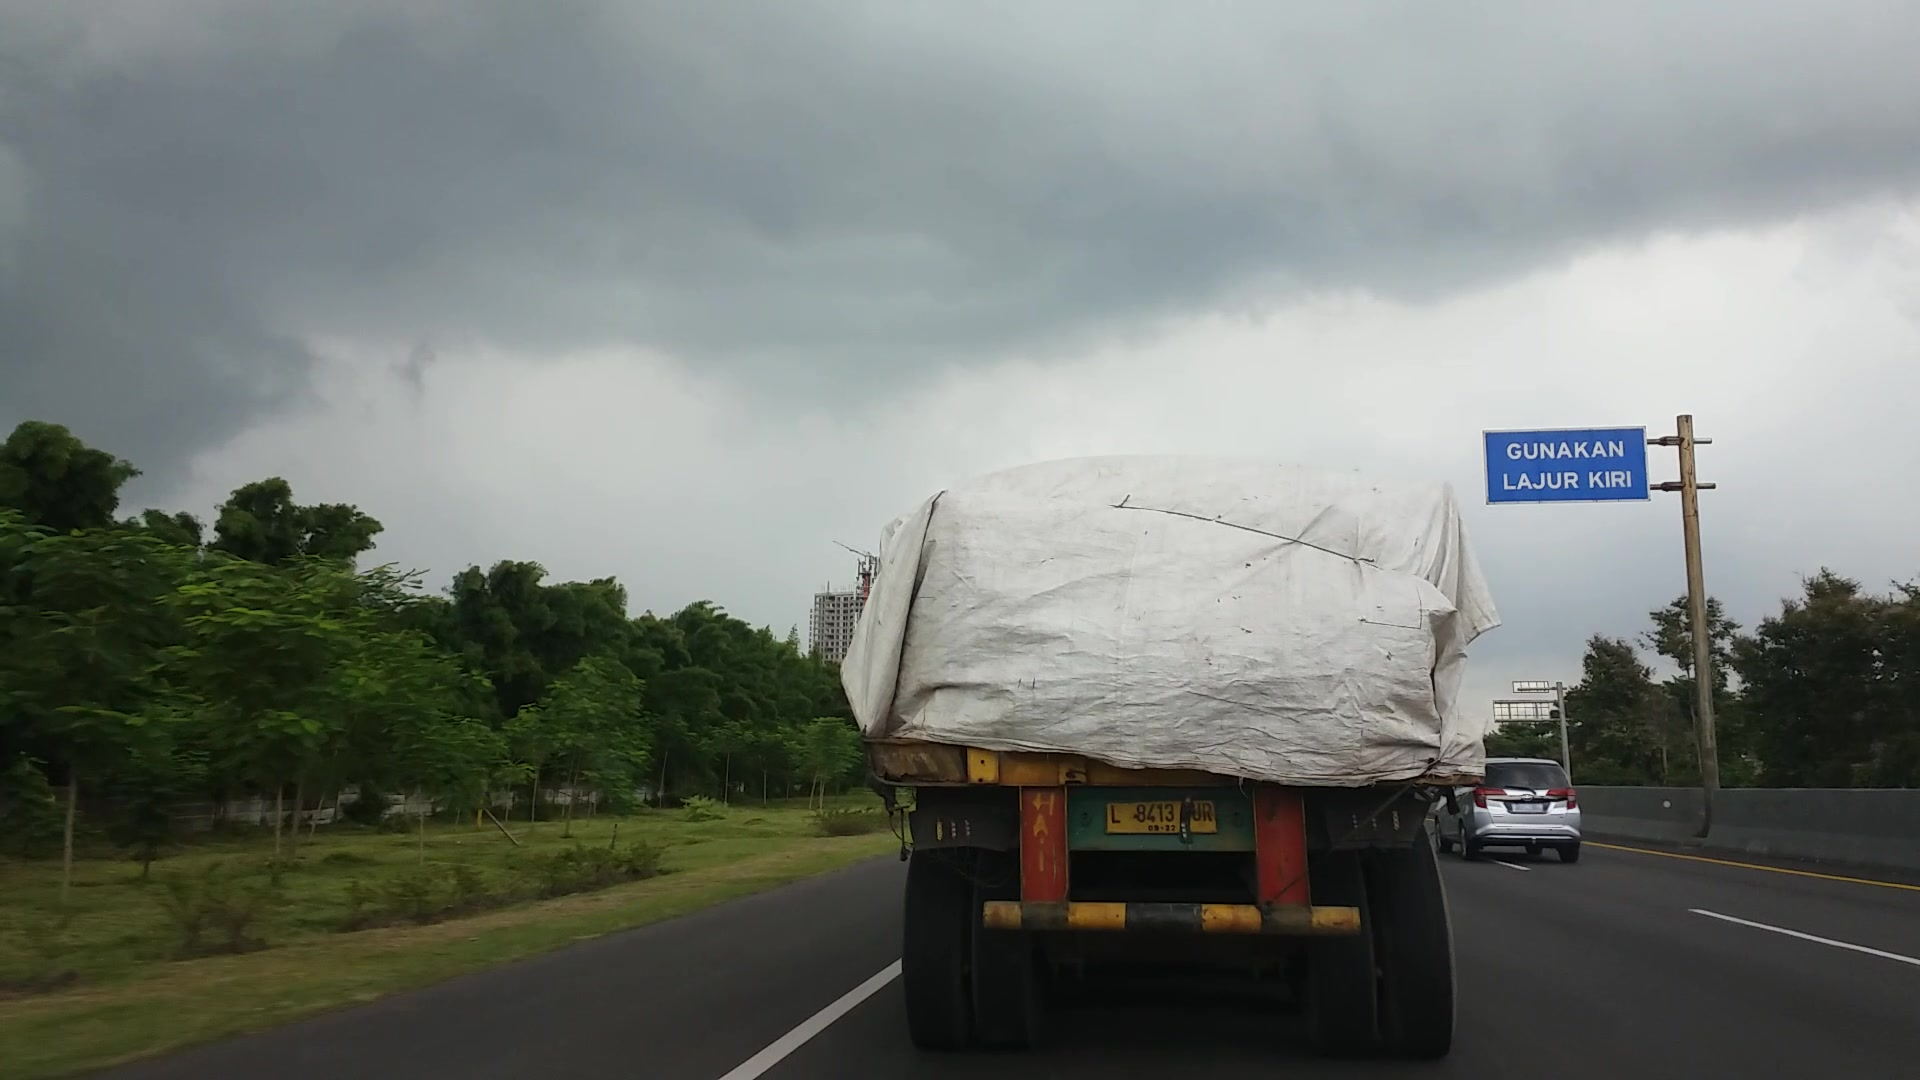plate_positive: (1106, 800, 1216, 833)
